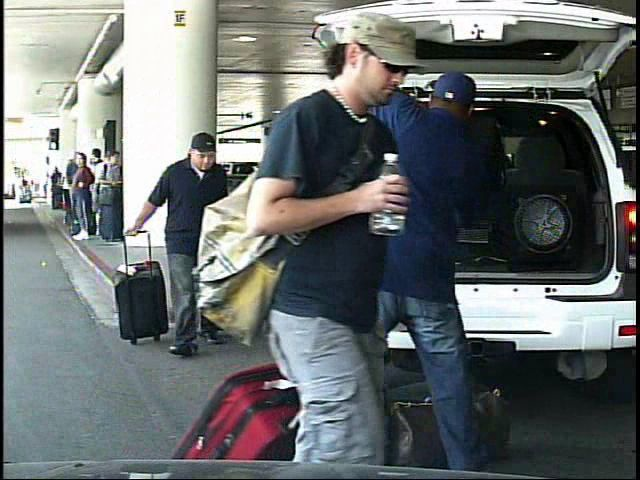person: (228, 17, 421, 480), (332, 54, 522, 477), (122, 125, 245, 359), (13, 174, 24, 205)
